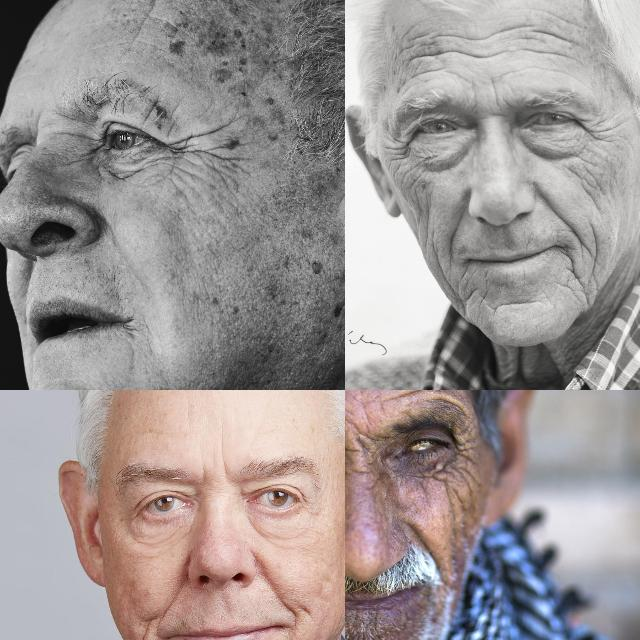bunny_line: (56, 147, 85, 179)
chin: (494, 293, 538, 313), (464, 282, 484, 304)
crows_feet: (177, 130, 239, 184), (452, 432, 482, 484), (380, 130, 410, 170), (576, 118, 614, 142)
forehead: (459, 24, 517, 64), (528, 23, 582, 65), (129, 0, 169, 56), (398, 34, 452, 74), (394, 390, 452, 405)
frown_line: (210, 439, 240, 486), (346, 436, 376, 472), (484, 79, 508, 109)
gummy_smile: (255, 555, 295, 621), (159, 558, 193, 618), (537, 188, 571, 225), (407, 518, 435, 552), (446, 216, 464, 262)
masseter: (412, 190, 442, 250), (573, 164, 607, 206), (441, 484, 472, 520), (432, 260, 458, 296), (588, 222, 602, 280)
sad_smile: (558, 250, 584, 296), (137, 609, 173, 640), (296, 596, 318, 624)
